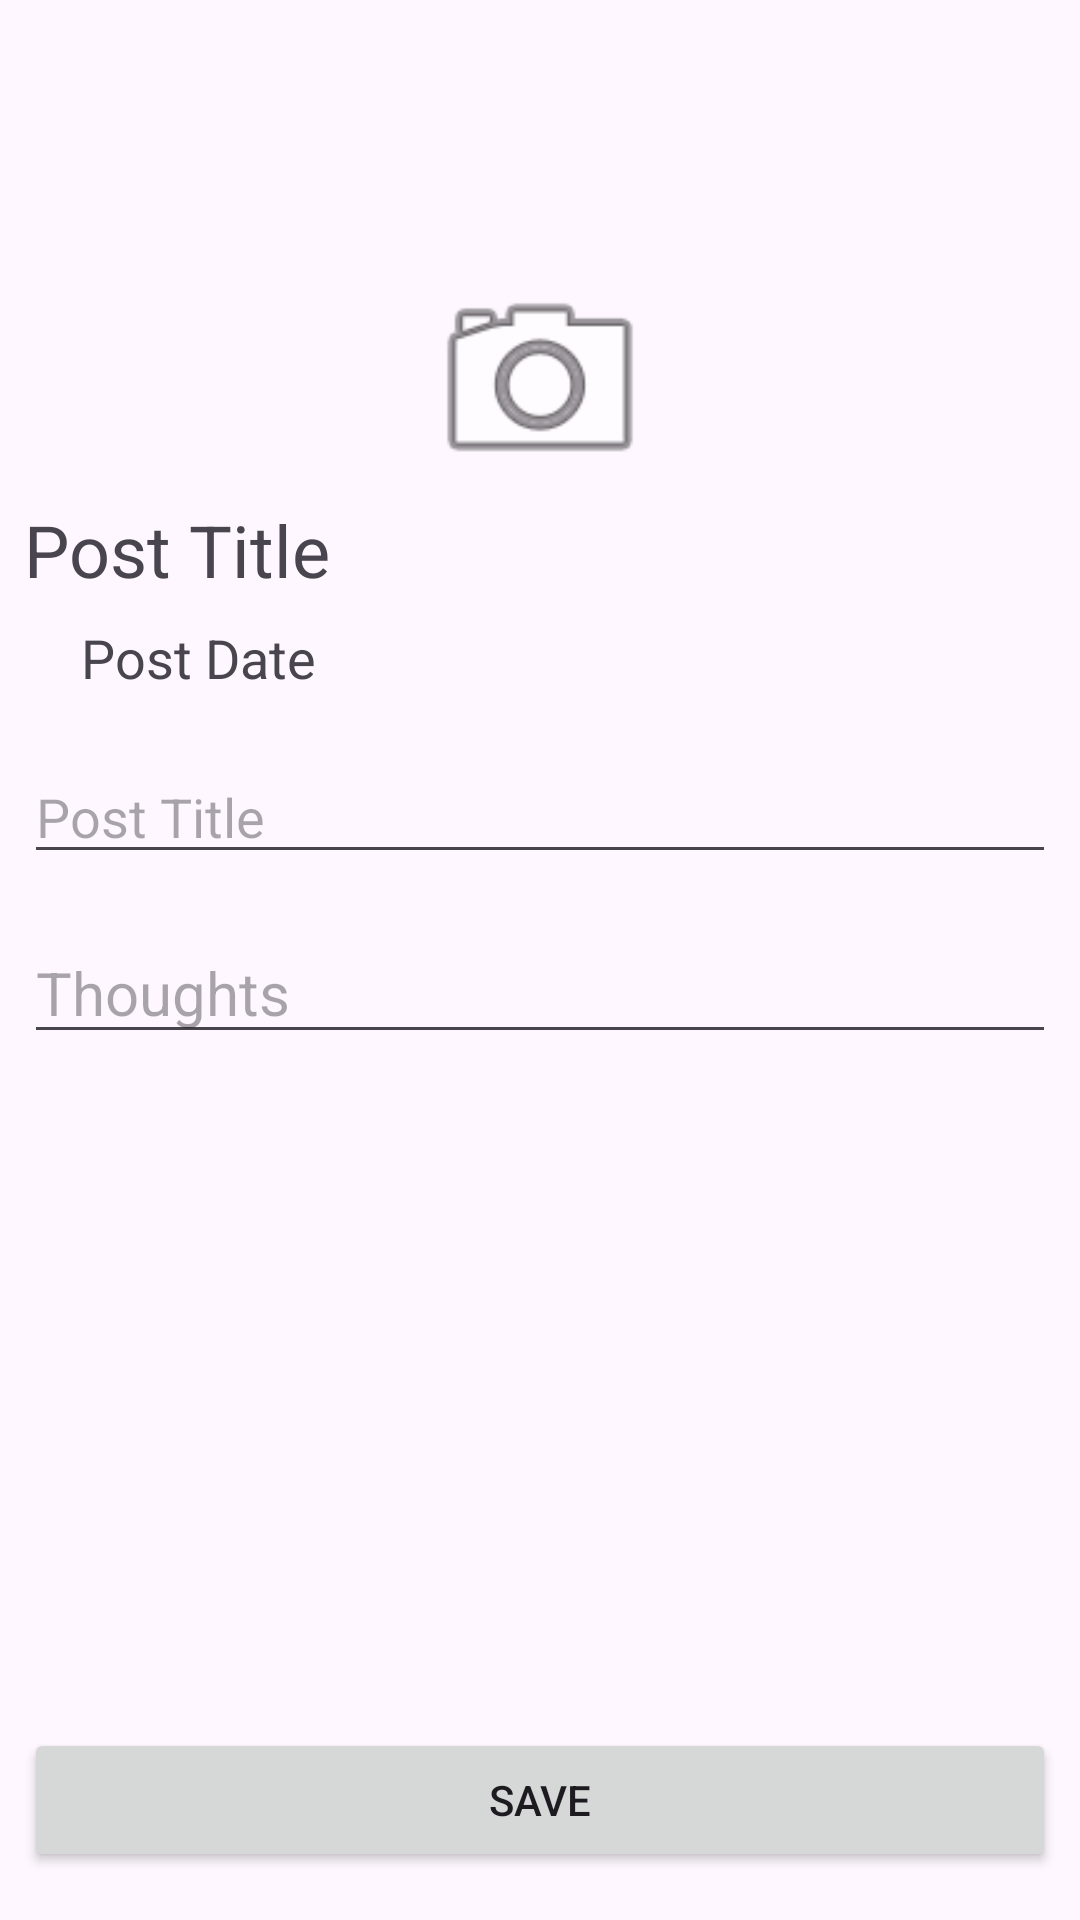

Icons on this 1080x1920 Android screen, each with its box as (x1, y1, x2, y2):
camera: (447, 303, 633, 451)
